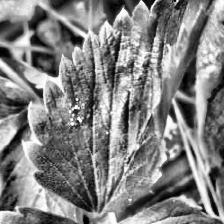Powdery Mildew Leaf: (20, 0, 219, 214), (194, 0, 224, 224)
